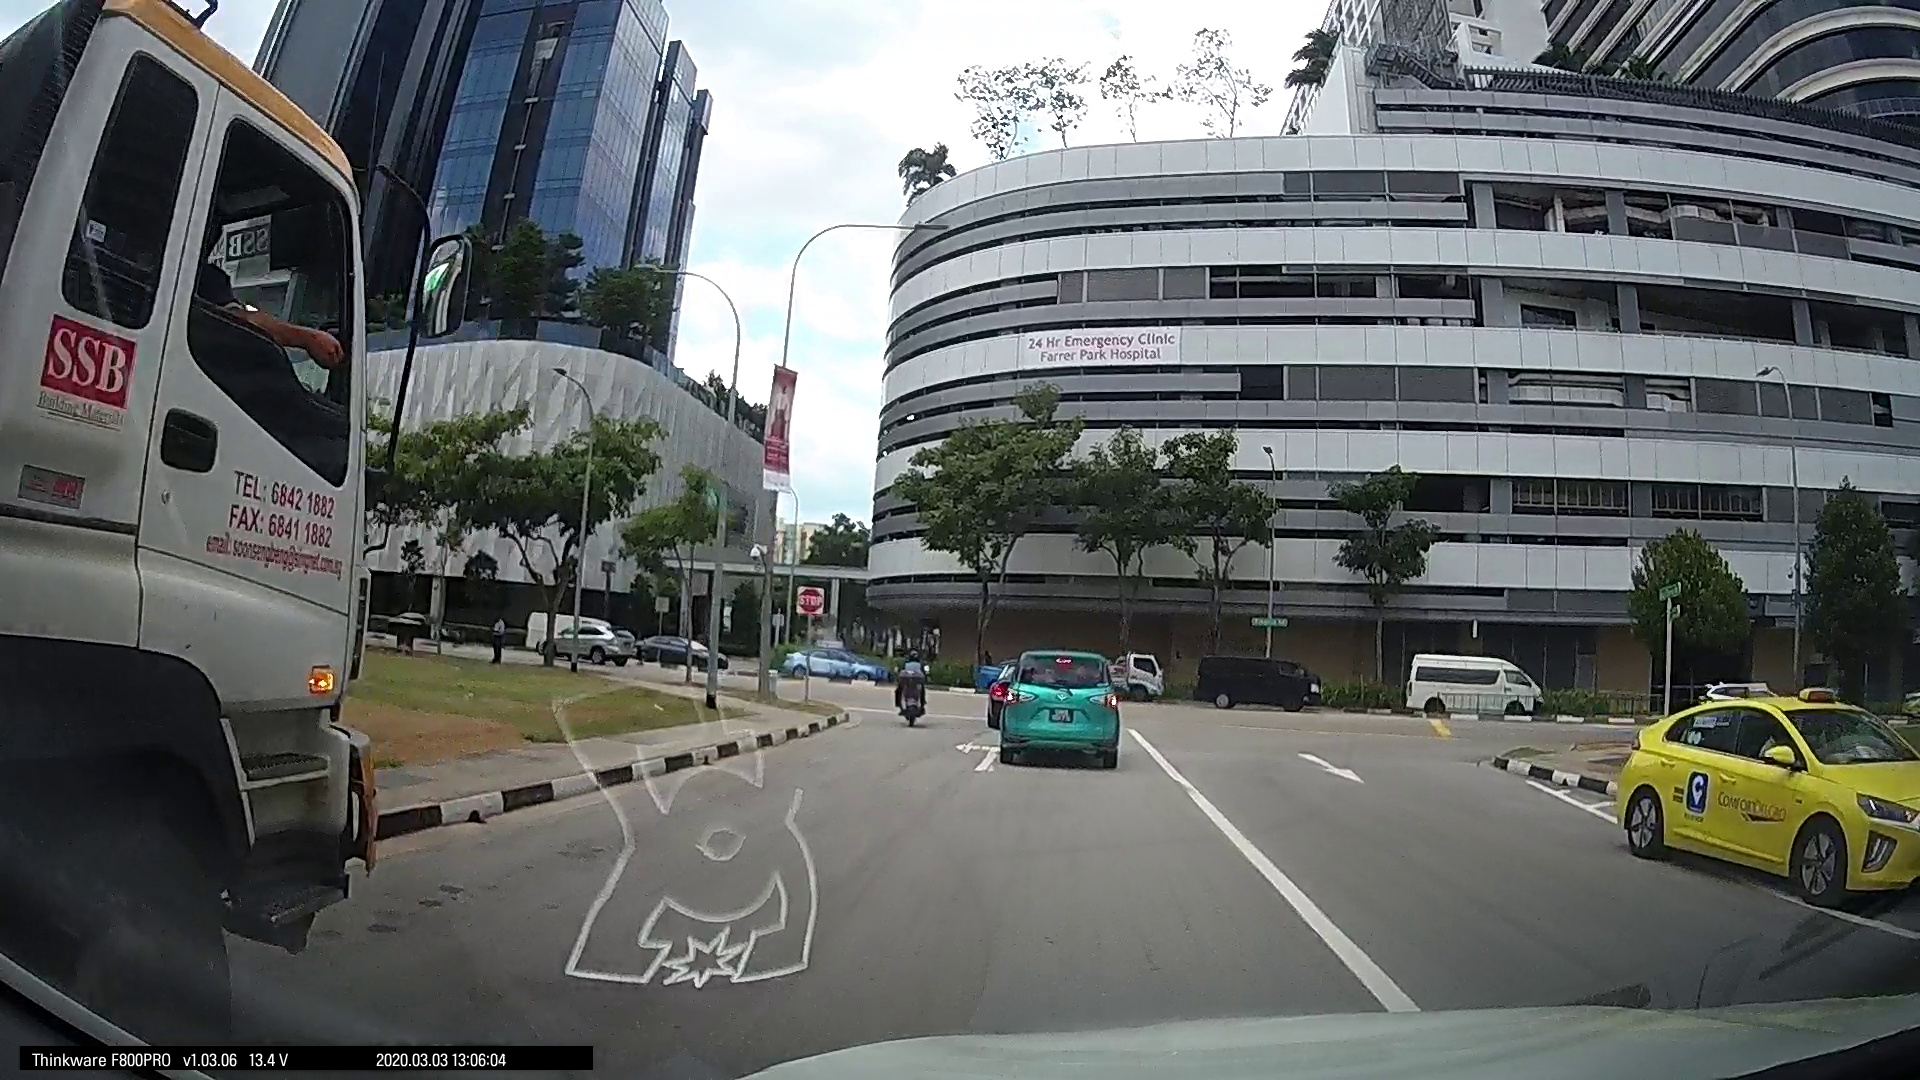Heavy Vehicle: (5, 1, 385, 1013)
Light Vehicle: (1604, 684, 1919, 909), (988, 642, 1121, 769), (1396, 649, 1548, 720), (1192, 646, 1316, 709), (531, 611, 633, 667), (775, 640, 873, 683), (1112, 647, 1160, 699)
Motorcycle: (889, 644, 928, 727)
